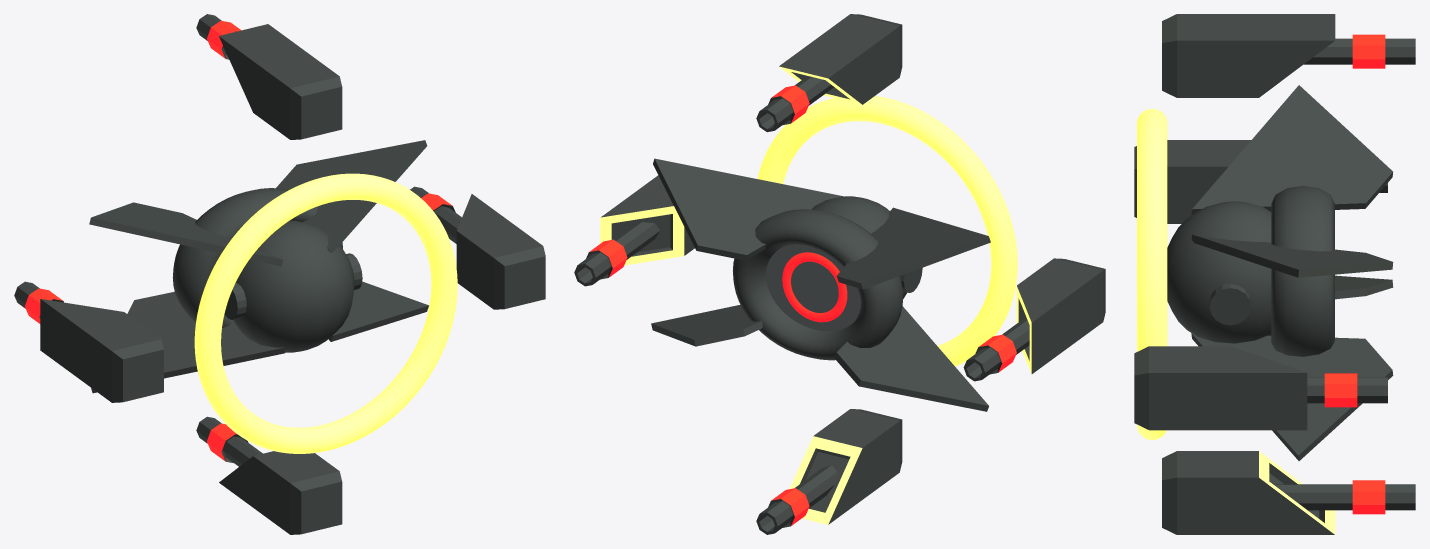
The model's file is Drone with Plasma Missiles.fbx.
3 views of the same model, side by side, from view 1: azimuth 30°, elevation 25°; view 2: azimuth 150°, elevation 25°; view 3: azimuth 270°, elevation 25° (orthographic). The views are drawn at different scales.
Visible parts, largest first — view 1: Body, Plasma Core, Cube, Cube.001; view 2: Body, Cube, Cube.001, Plasma Core; view 3: Body, Cube, Cube.001, Plasma Core.
Boxes of the visible parts, box(x1,y1,x2,y2) form: Body: box(89, 140, 428, 393); Plasma Core: box(194, 173, 457, 453); Cube: box(196, 14, 342, 534); Cube.001: box(14, 186, 545, 402); Body: box(651, 158, 990, 411); Cube: box(756, 14, 902, 534); Cube.001: box(574, 175, 1105, 381); Plasma Core: box(757, 96, 1017, 366); Body: box(1167, 85, 1393, 460); Cube: box(1162, 14, 1415, 534); Cube.001: box(1134, 140, 1387, 430); Plasma Core: box(1137, 109, 1167, 439).
Bounding box in the file's own units: 387 × 383 × 198.
